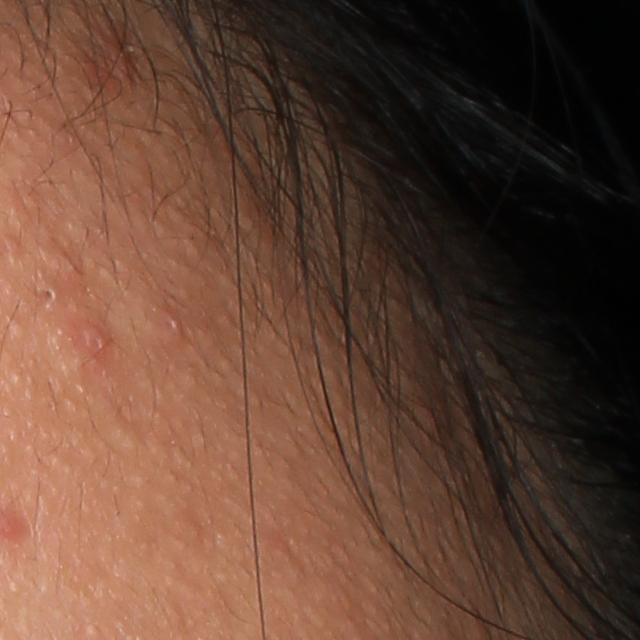papule: (78, 322, 107, 353)
